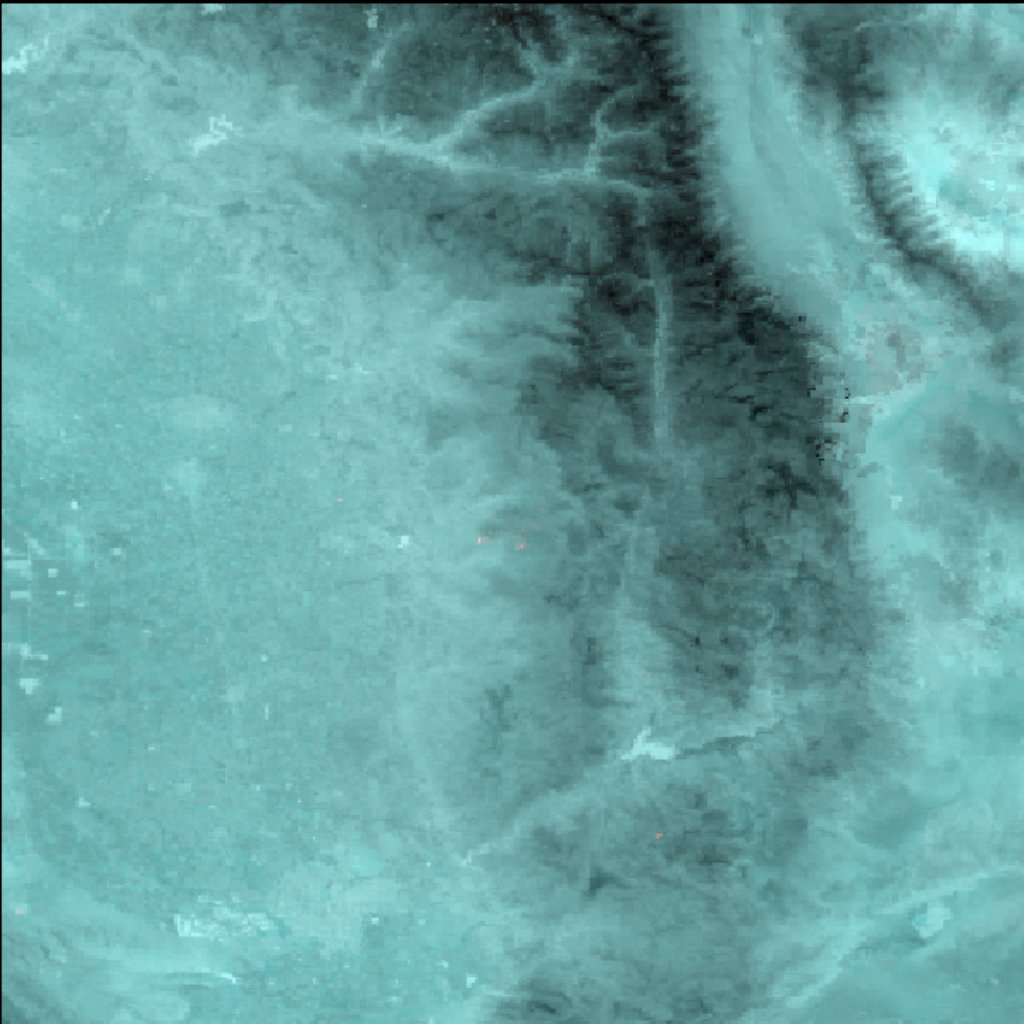fire: (2, 4, 1024, 1024)
